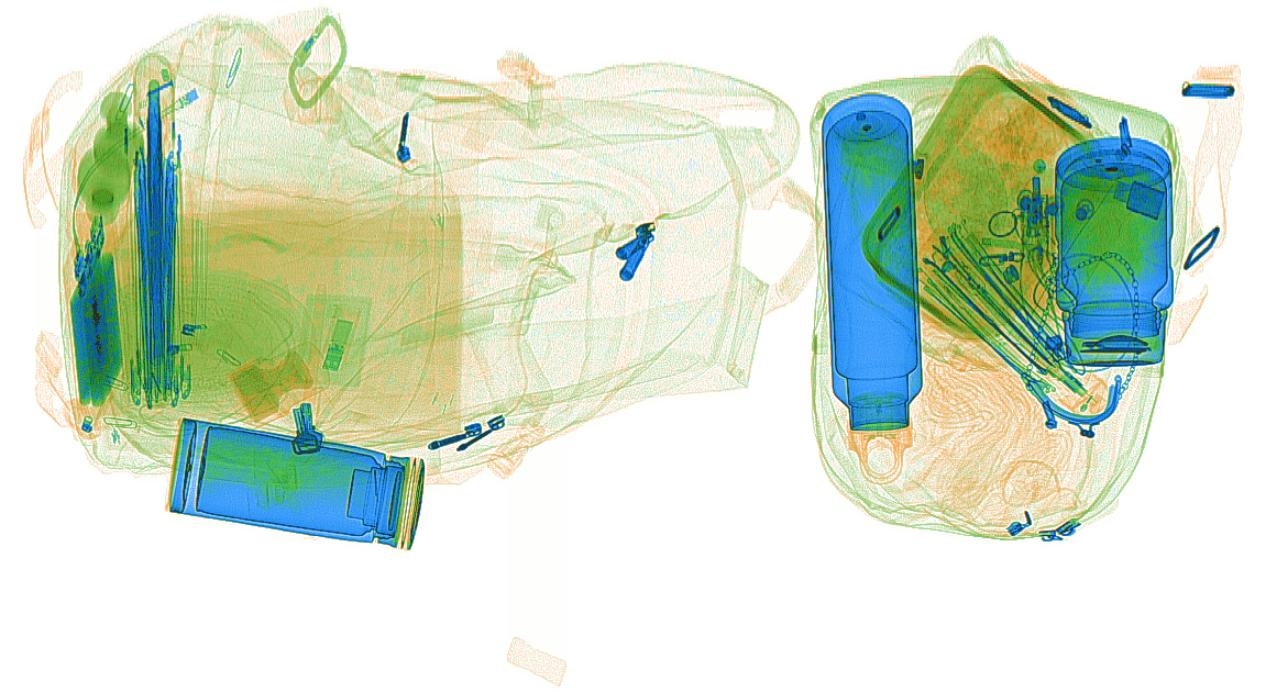USBFlashDisk: (318, 321, 356, 377)
seal: (230, 350, 313, 427), (77, 145, 134, 231), (94, 90, 148, 179)
